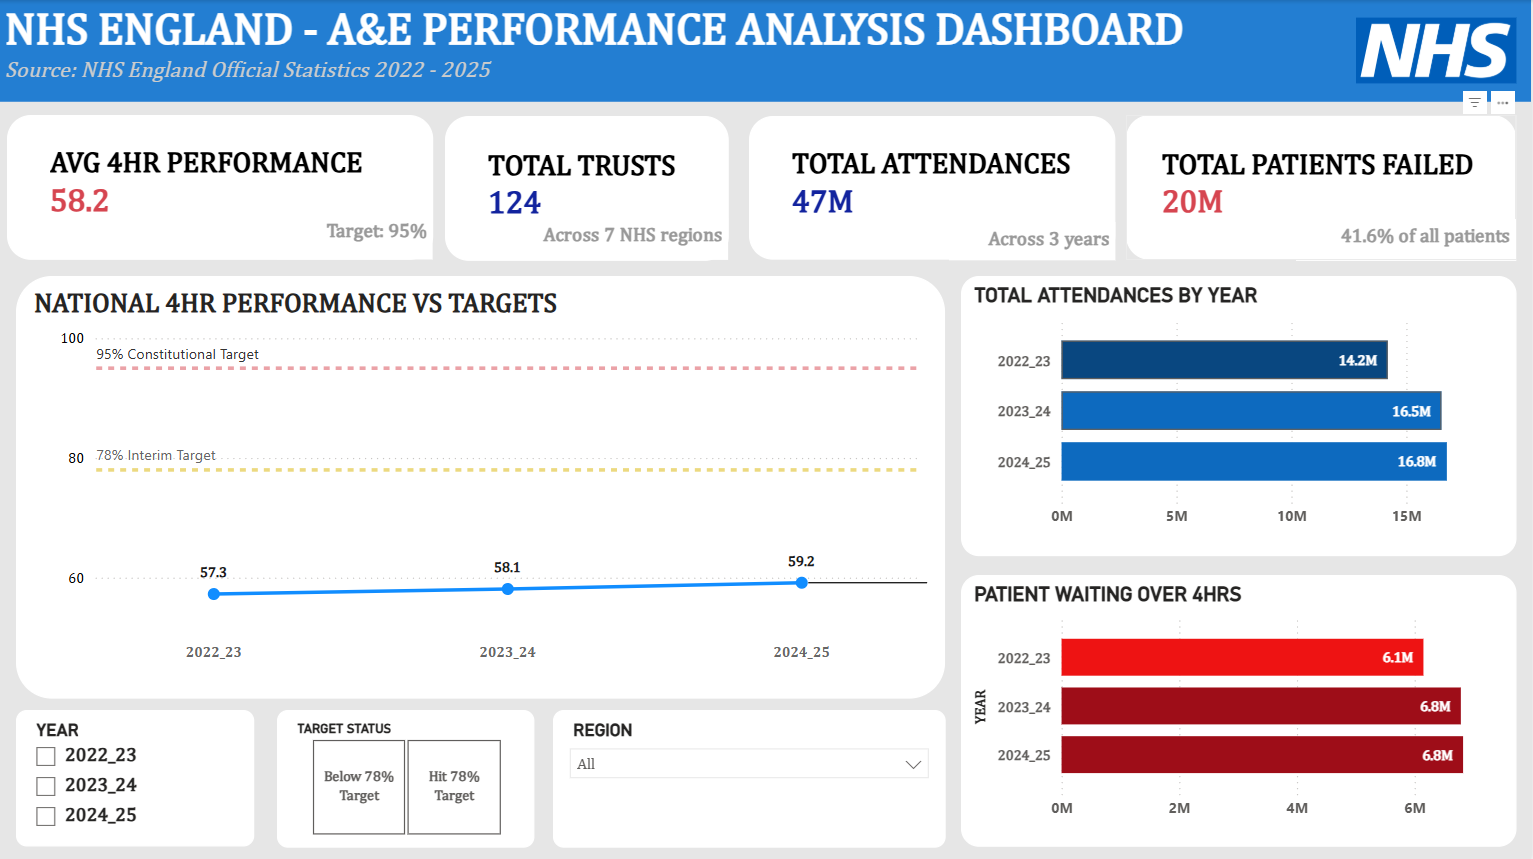

The page's visual inventory and layout, read from the dashboard file:
{"tool":"powerbi","page":{"name":"Page 1","canvas":[1280,720],"ordinal":0},"visuals":[{"type":"lineChart","title":"NATIONAL 4HR PERFORMANCE VS TARGETS","fields":{"Category":["Nhs_dataset.SPAN"],"Y":["Nhs_dataset.AVG 4HR PERFORMANCE"]},"box":[14.1,230.6,776.5,352.9],"z":0},{"type":"textbox","box":[0,0,1280,84.7],"z":1000},{"type":"cardVisual","fields":{"Data":["Nhs_dataset.National Average performance"]},"box":[6.3,95.7,356.1,120.8],"z":2000},{"type":"cardVisual","fields":{"Data":["Nhs_dataset.Total Attendances"]},"box":[626.7,97.1,306,119.8],"z":2000,"group":"g2"},{"type":"image","box":[1133.5,11.7,134.5,61],"z":3000},{"type":"cardVisual","fields":{"Data":["Nhs_dataset.Total Patient Failed"]},"box":[941.6,96.1,326,121.1],"z":3000,"group":"g3"},{"type":"barChart","title":"PATIENT WAITING OVER 4HRS","fields":{"Category":["Nhs_dataset.SPAN"],"Y":["Nhs_dataset.Total Patient Failed"]},"box":[803.1,480,464.3,227.5],"z":4000},{"type":"cardVisual","fields":{"Data":["Nhs_dataset.Total Trusts"]},"box":[372.6,97.1,236.8,121.1],"z":5000},{"type":"barChart","title":"TOTAL ATTENDANCES BY YEAR","fields":{"Y":["Nhs_dataset.Total Attendances"],"Category":["Nhs_dataset.SPAN"]},"box":[803.1,230.6,464.3,233.7],"z":6000},{"type":"slicer","fields":{"Values":["Nhs_dataset.SPAN"]},"box":[14.2,593,198.8,114.4],"z":7000},{"type":"slicer","fields":{"Values":["Nhs_dataset.Target Status"]},"box":[232.2,592.9,214.9,114.5],"z":8000},{"type":"slicer","fields":{"Values":["Nhs_dataset.REGION"]},"box":[462.7,592.9,327.8,114.5],"z":9000},{"type":"group","id":"g1","title":"Group 4","box":[941.6,96.1,326,121.1],"z":10000},{"type":"textbox","box":[1084,182.6,183.6,34.6],"z":10000,"group":"g3"},{"type":"textbox","box":[431.1,182.3,178.3,34.6],"z":11000},{"type":"textbox","box":[793.5,185.3,139.3,31.5],"z":11000,"group":"g2"},{"type":"textbox","box":[232.2,178.8,130.2,37.6],"z":12000},{"type":"group","id":"g2","title":"Group 7","box":[626.7,97.1,306,119.8],"z":13000},{"type":"group","id":"g3","title":"Group 5","box":[941.6,96.1,326,121.1],"z":13016,"group":"g1"}]}

Visuals, with their boxes in screenshot pixels (x1, y1, x2, y2), scaled from the page's 1280x720 canvas onto the 1533x859 screenshot:
"NATIONAL 4HR PERFORMANCE VS TARGETS" lineChart: BBox(17, 275, 947, 696)
textbox: BBox(0, 0, 1532, 101)
cardVisual - Nhs_dataset.National Average performance: BBox(8, 114, 434, 258)
cardVisual - Nhs_dataset.Total Attendances: BBox(751, 116, 1117, 259)
image: BBox(1358, 14, 1519, 87)
cardVisual - Nhs_dataset.Total Patient Failed: BBox(1128, 115, 1518, 259)
"PATIENT WAITING OVER 4HRS" barChart: BBox(962, 573, 1518, 844)
cardVisual - Nhs_dataset.Total Trusts: BBox(446, 116, 730, 260)
"TOTAL ATTENDANCES BY YEAR" barChart: BBox(962, 275, 1518, 554)
slicer - Nhs_dataset.SPAN: BBox(17, 707, 255, 844)
slicer - Nhs_dataset.Target Status: BBox(278, 707, 535, 844)
slicer - Nhs_dataset.REGION: BBox(554, 707, 947, 844)
"Group 4" group: BBox(1128, 115, 1518, 259)
textbox: BBox(1298, 218, 1518, 259)
textbox: BBox(516, 217, 730, 259)
textbox: BBox(950, 221, 1117, 259)
textbox: BBox(278, 213, 434, 258)
"Group 7" group: BBox(751, 116, 1117, 259)
"Group 5" group: BBox(1128, 115, 1518, 259)
